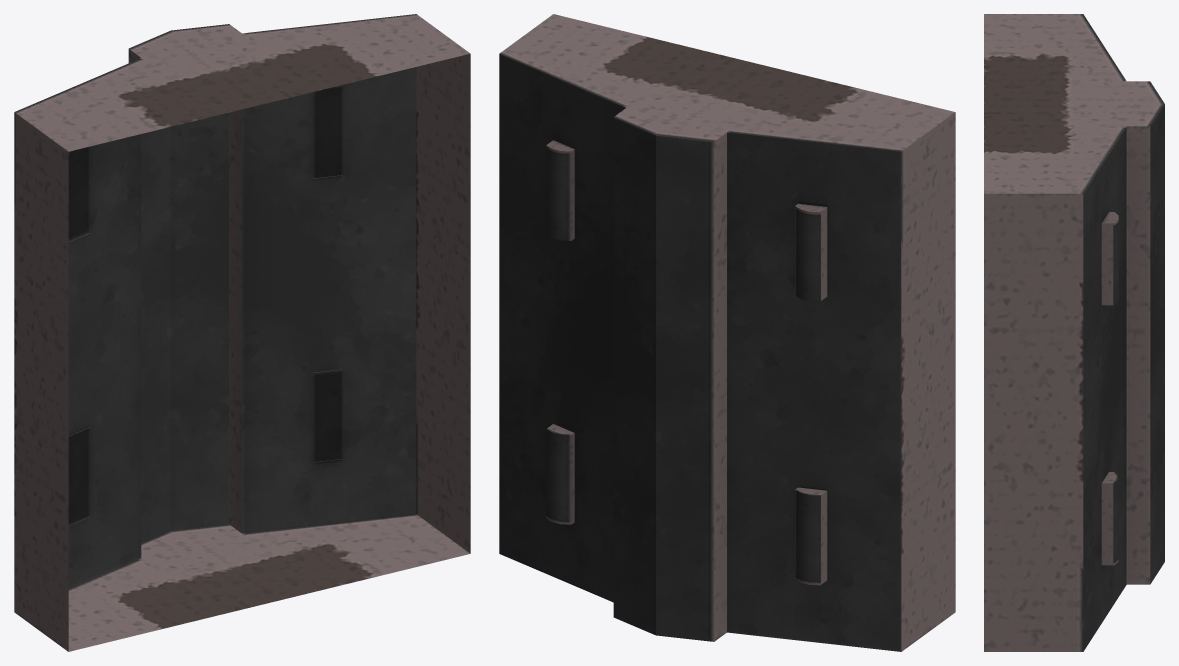
File: house_small_warehouse.fbx
3 views of the same model, side by side, from view 1: azimuth 30°, elevation 25°; view 2: azimuth 150°, elevation 25°; view 3: azimuth 270°, elevation 25° (orthographic). The views are drawn at different scales.
Visible parts, largest first — view 1: house_small_warehouse; view 2: house_small_warehouse; view 3: house_small_warehouse.
Boxes of the visible parts, <box> form: house_small_warehouse: <box>14,14,470,651</box>; house_small_warehouse: <box>499,14,955,651</box>; house_small_warehouse: <box>984,14,1164,651</box>.
Size of the model in its own units: 864 by 1027 by 367.
